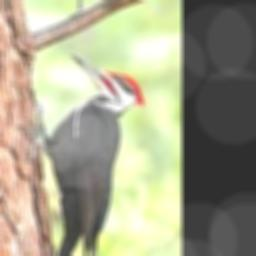Woodpecker: (21, 53, 145, 256)
